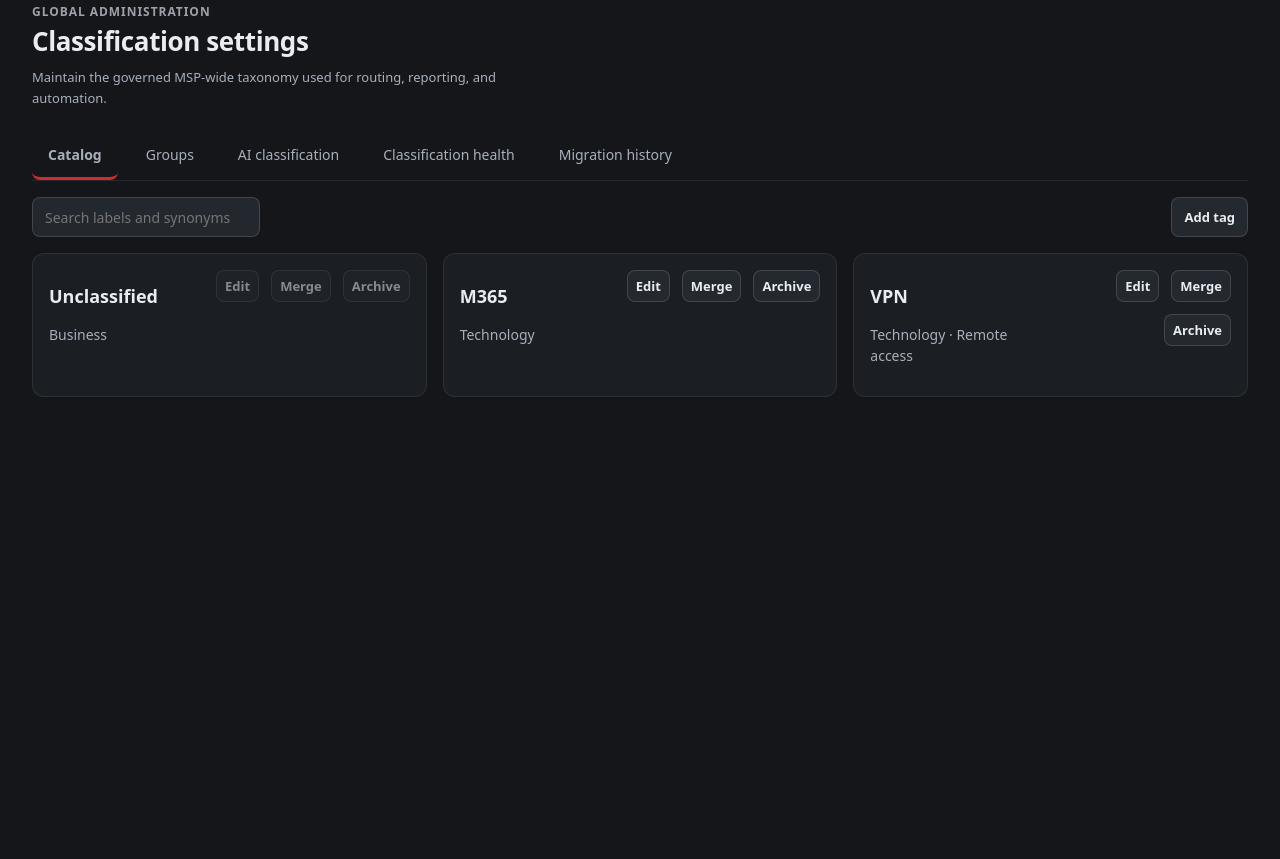
Test case: ClassificationSettingsPage › closes stale tag and group editors after refreshing the catalog
Expected: the heading "VPN" is shown, [870,284,908,308]
Click the button with aria-label "Edit VPN". click: coordinates (1138, 286)
box: [1116,270,1159,302]
(page scrolled)
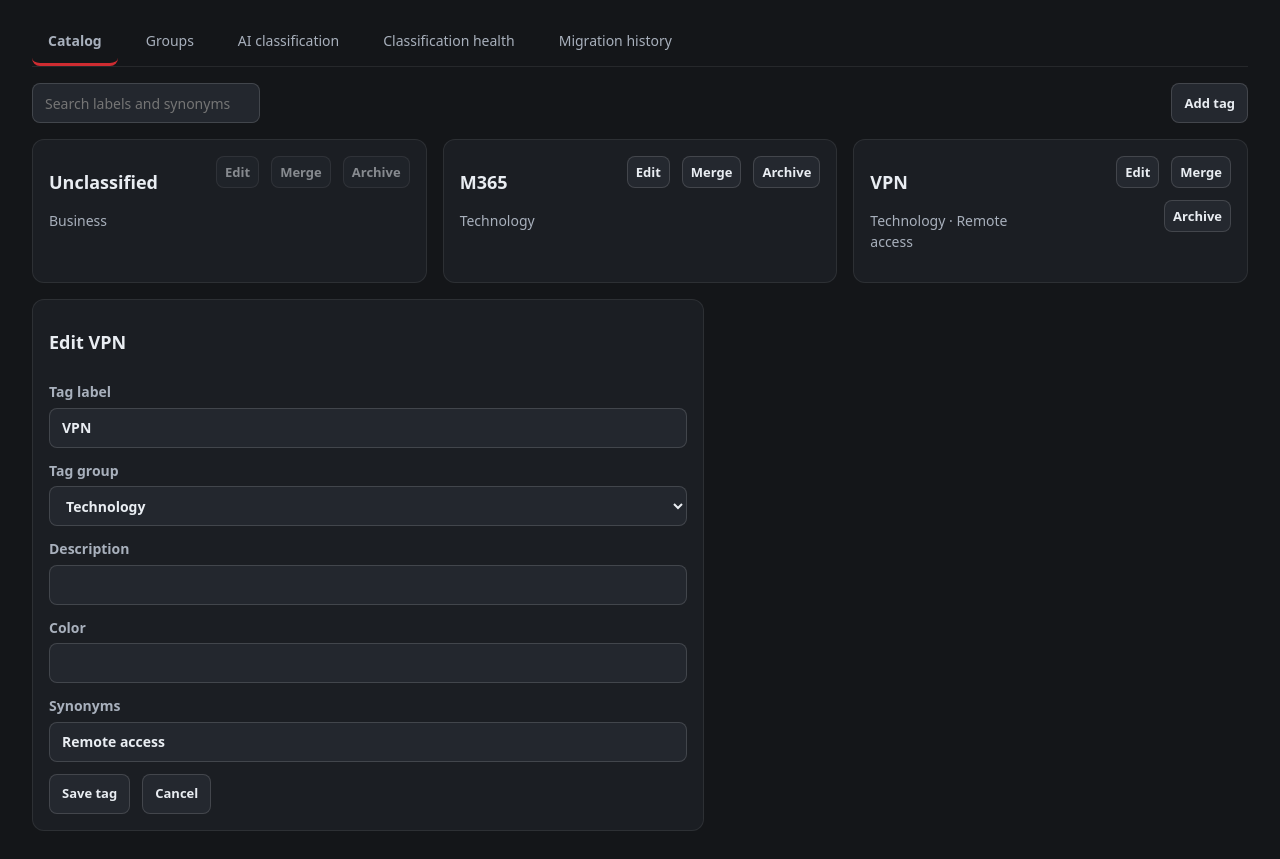
Click the button "Save tag". click: coordinates (90, 794)
box: [49,774,130,814]
(page scrolled)
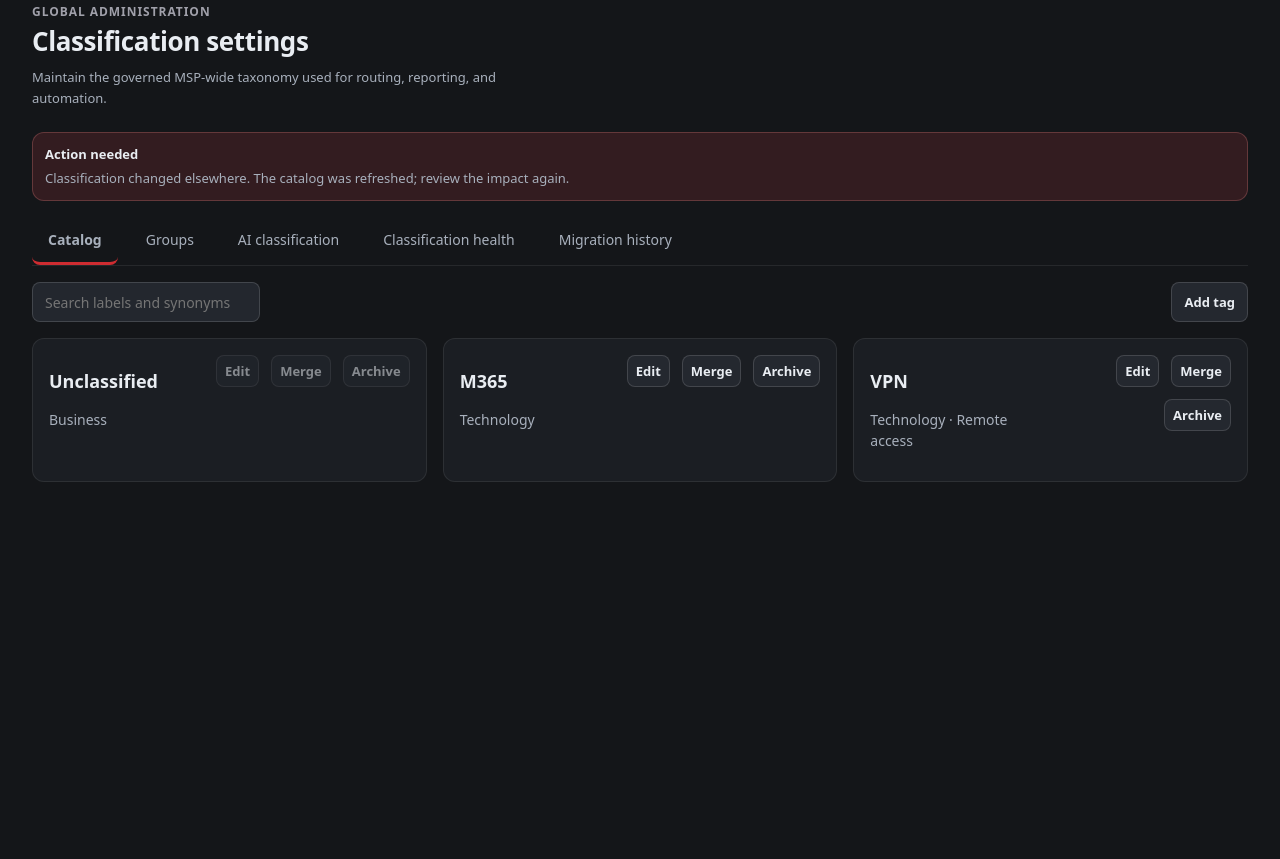
Now the text "Classification changed elsewhere. The catalog was refreshed; review the impact again." is shown, box [45,169,569,187]
Now the button "Save tag" is gone
Click the tab "Groups". click: coordinates (170, 241)
box: [130,217,210,265]
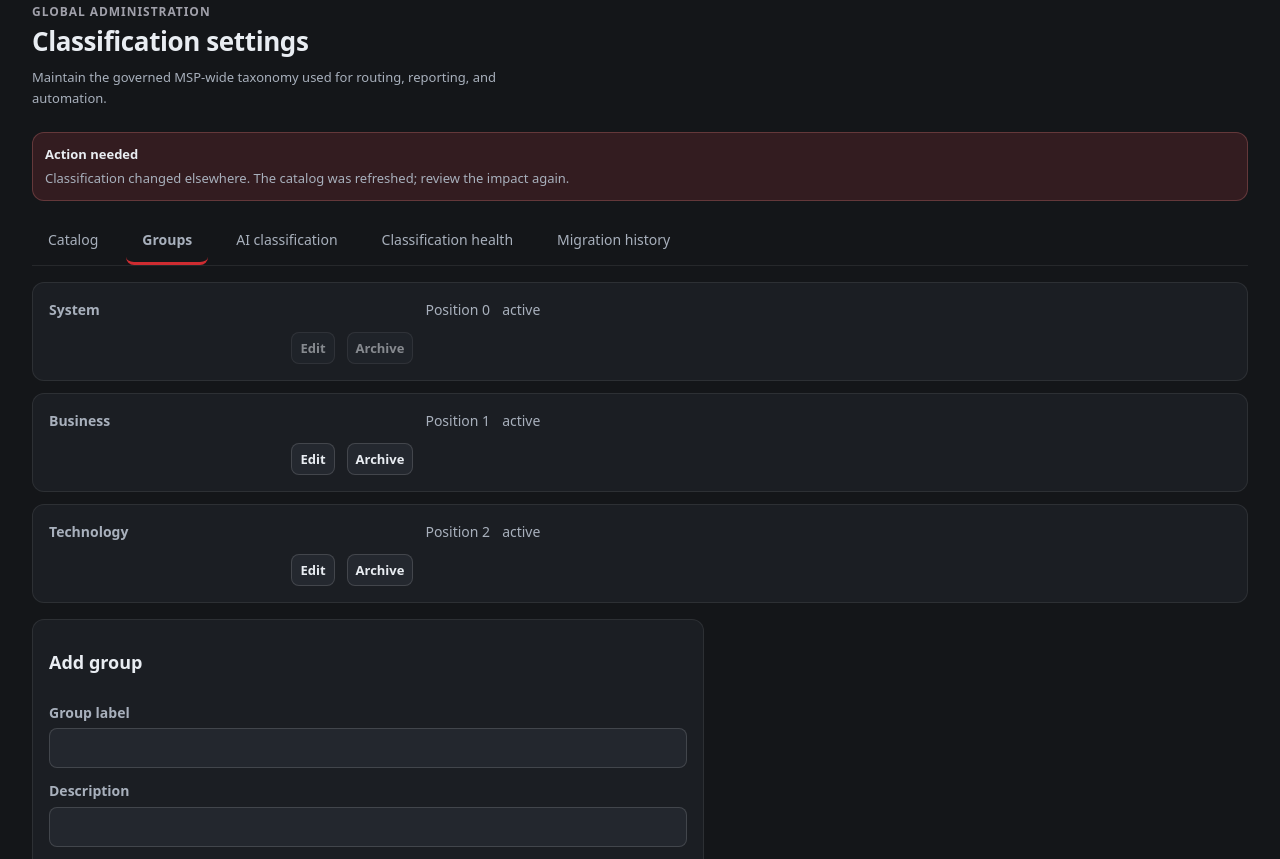
Expected: the text "Technology" is shown, [49,522,128,541]
Click the button with aria-label "Edit Technology". click: coordinates (313, 570)
box: [291,554,334,586]
(page scrolled)
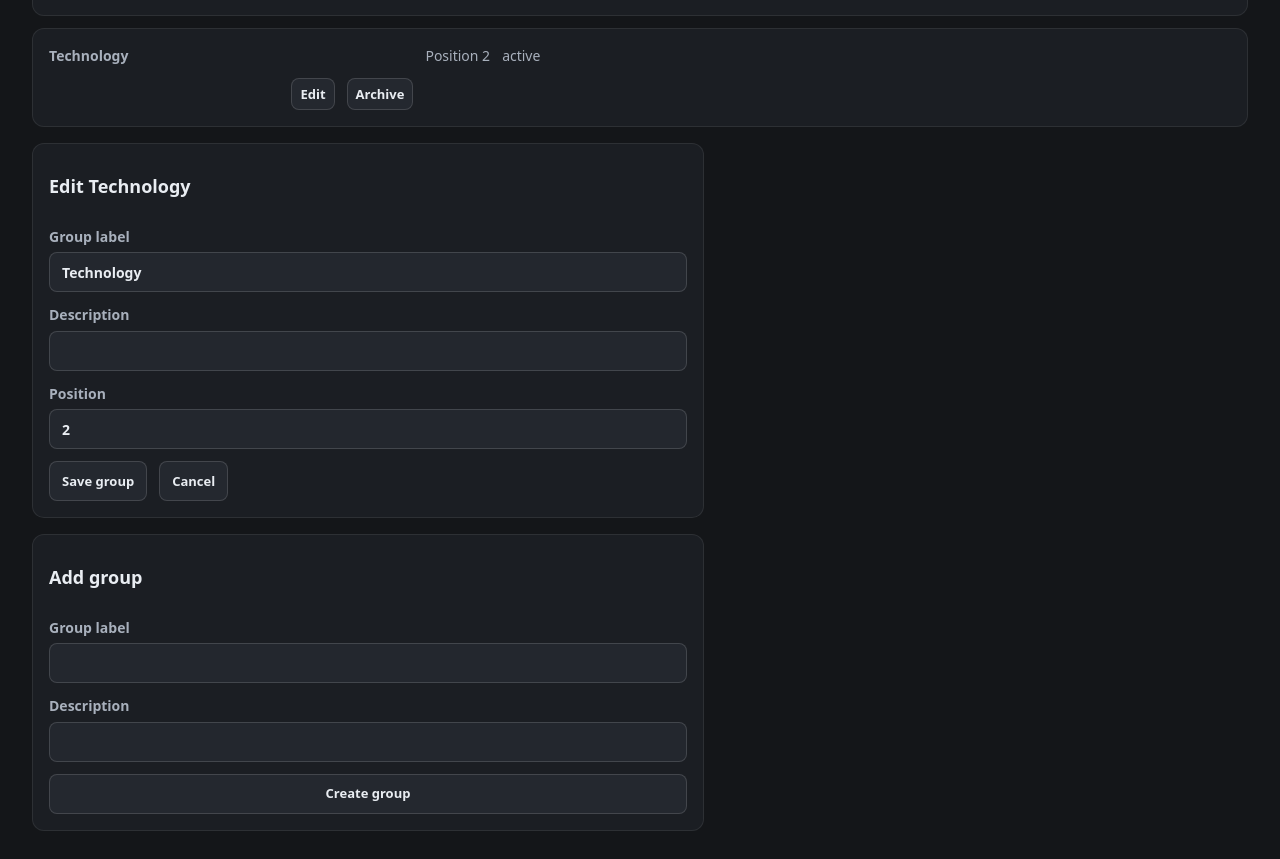
Click the button "Save group". click: coordinates (98, 481)
box: [49,461,147,501]
(page scrolled)
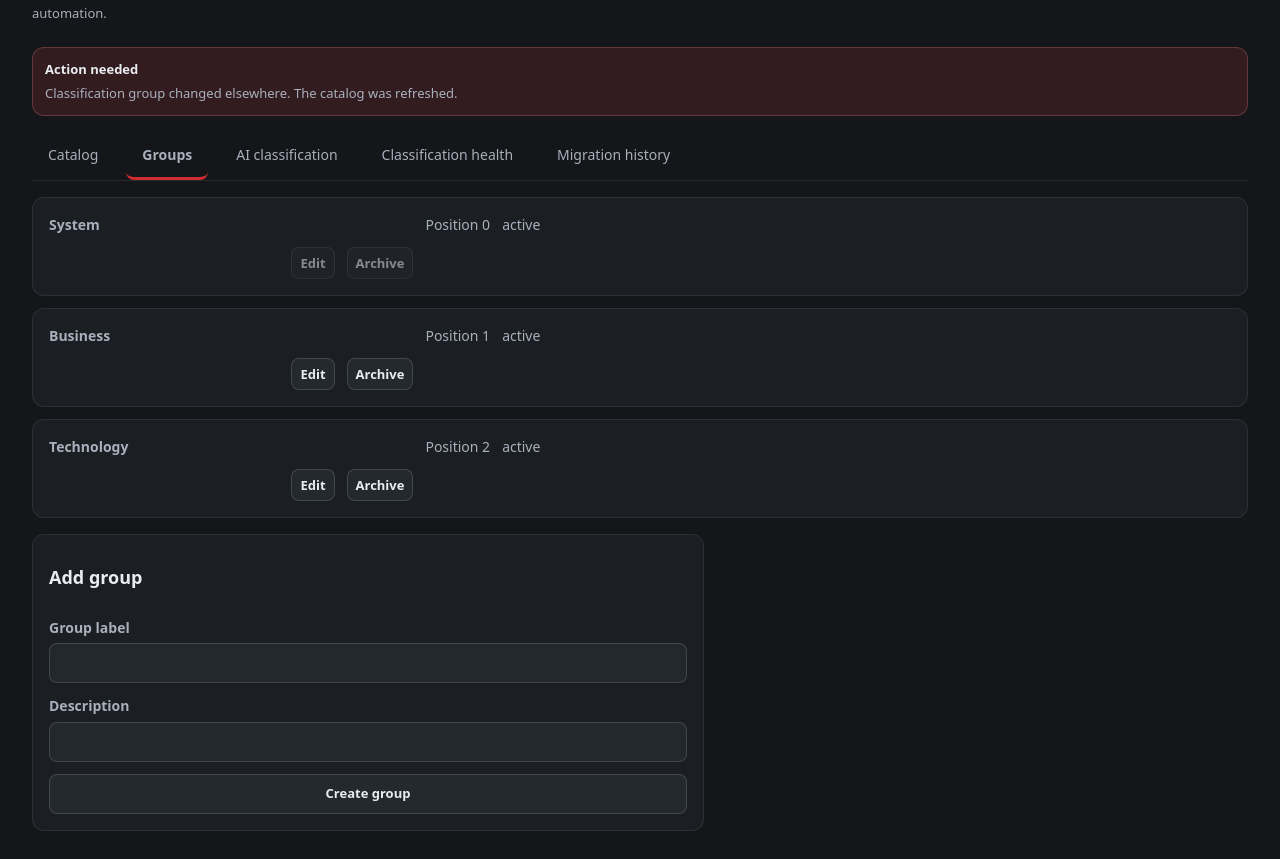
Now the text "Classification group changed elsewhere. The catalog was refreshed." is shown, box [45,84,458,102]
Now the button "Save group" is gone
